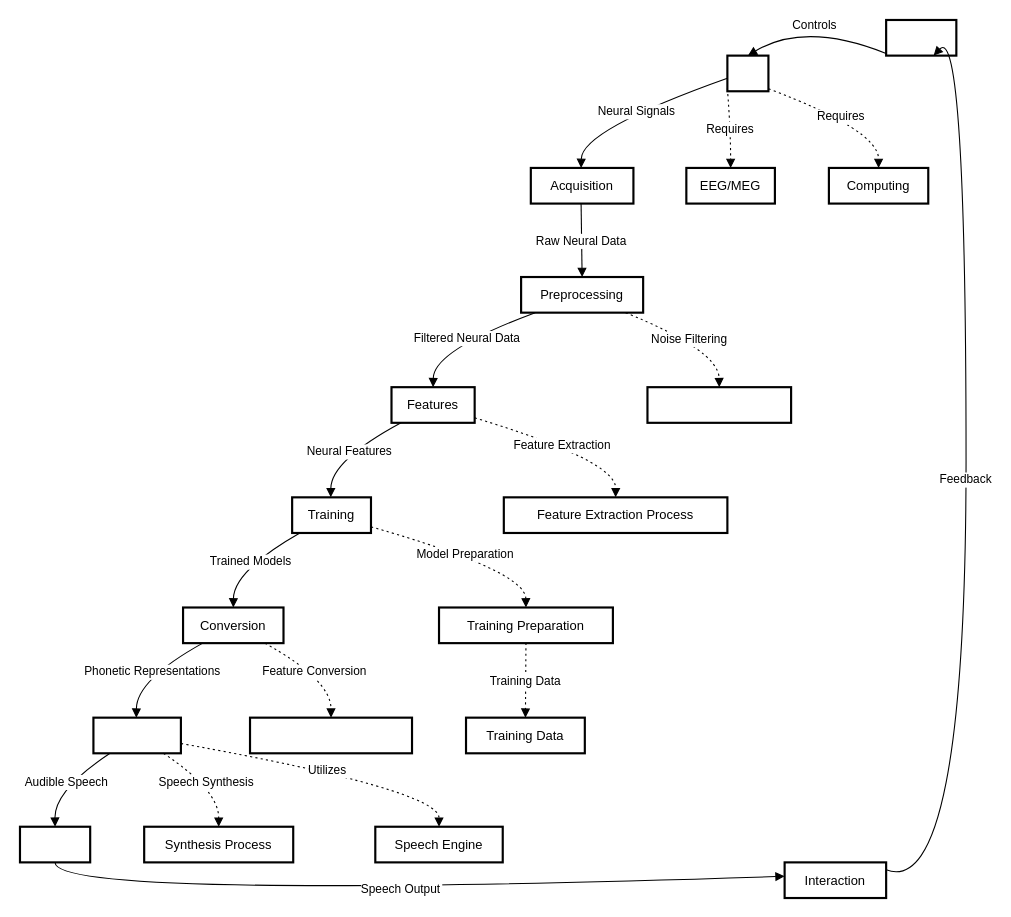
This 1011x917 diagram has some shape labels left out. Each missing label, with the centre of its shape:
BCI: (747,73)
Conversion Process: (330,735)
Filtering Process: (719,404)
Output: (54,844)
Synthesis: (136,735)
System: (921,37)
